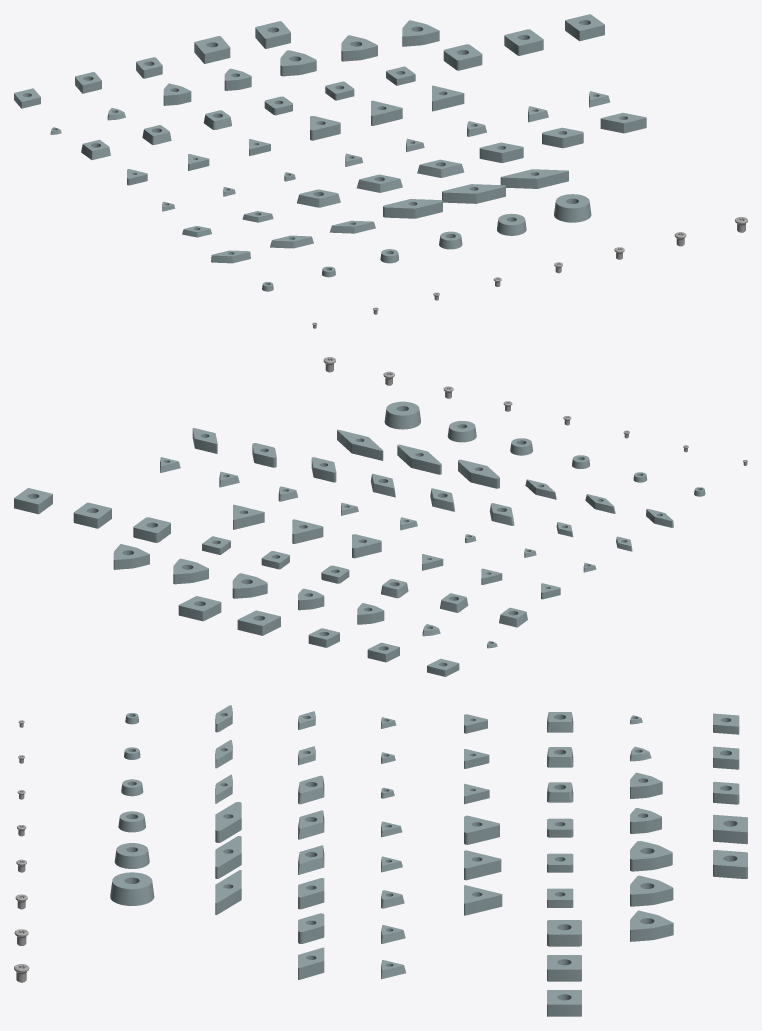
Rendered from chedao.glb.
The picture shows the model from 3 angles, top to bottom: view 1: azimuth 30°, elevation 25°; view 2: azimuth 150°, elevation 25°; view 3: azimuth 270°, elevation 25°; orthographic projection. The views are drawn at different scales.
Parts seen in each view (by area): view 1: VNMG160404.43, VNMG160408.44, VNMG160412.45, RCMT1606.50, SNMG120404.16, SNMG120408.17, SNMG120412.18, WNMG080404.13, WNMG080408.10, WNMG080412.12, CCMT120404.7, DNMG110404.35 (+11 smaller); view 2: RCMT1606.50, VNMG160404.43, CCMT120404.7, CNMG120408.6, VNMG160408.44, VNMG160412.45, SNMG120404.16, SNMG120408.17, WNMG080404.13, SNMG120412.18, WNMG080412.12, WNMG080408.10 (+4 smaller); view 3: RCMT1606.50, WNMG080408.10, WNMG080404.13, WNMG080412.12, CCMT120404.7, CNMG120408.6, SNMG120404.16, SNMG120408.17, SNMG120412.18, TNMG160404.5, TNMG160408.23, VNMG160404.43 (+22 smaller).
Part boxes in pixels (<box>): VNMG160404.43: <box>500,169,568,188</box>; VNMG160408.44: <box>442,184,505,203</box>; VNMG160412.45: <box>383,199,442,218</box>; RCMT1606.50: <box>554,194,591,222</box>; SNMG120404.16: <box>565,14,604,40</box>; SNMG120408.17: <box>504,29,543,55</box>; SNMG120412.18: <box>443,44,482,70</box>; WNMG080404.13: <box>402,20,439,46</box>; WNMG080408.10: <box>341,35,377,61</box>; WNMG080412.12: <box>280,50,316,76</box>; CCMT120404.7: <box>194,36,230,63</box>; DNMG110404.35: <box>600,112,646,133</box>; RCMT1606.50: <box>384,401,420,429</box>; VNMG160404.43: <box>337,429,383,460</box>; CCMT120404.7: <box>237,610,280,635</box>; CNMG120408.6: <box>178,596,221,621</box>; VNMG160408.44: <box>397,444,441,474</box>; VNMG160412.45: <box>458,459,499,488</box>; SNMG120404.16: <box>14,488,52,514</box>; SNMG120408.17: <box>73,502,111,528</box>; WNMG080404.13: <box>113,544,149,569</box>; SNMG120412.18: <box>133,517,170,542</box>; WNMG080412.12: <box>232,573,267,598</box>; WNMG080408.10: <box>173,558,208,584</box>; RCMT1606.50: <box>110,872,154,905</box>; WNMG080408.10: <box>630,875,673,906</box>; WNMG080404.13: <box>630,910,673,941</box>; WNMG080412.12: <box>630,841,672,871</box>; CCMT120404.7: <box>713,814,747,844</box>; CNMG120408.6: <box>713,850,747,878</box>; SNMG120404.16: <box>547,990,581,1016</box>; SNMG120408.17: <box>547,955,581,981</box>; SNMG120412.18: <box>547,920,581,946</box>; TNMG160404.5: <box>464,885,502,915</box>; TNMG160408.23: <box>464,850,501,880</box>; VNMG160404.43: <box>215,870,241,914</box>.
Size of the model in its own units: 26 by 1.2 by 26.55.
